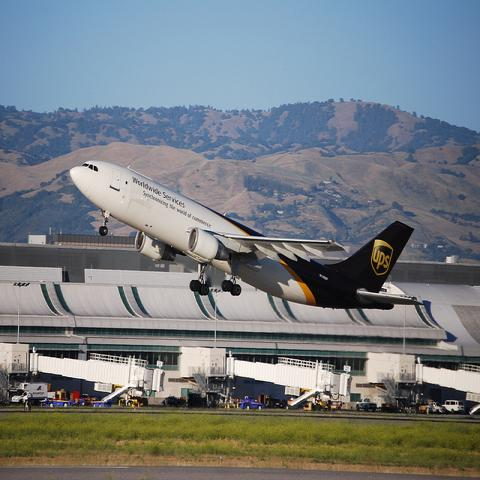car: (239, 397, 264, 411), (356, 396, 377, 412), (442, 399, 464, 414), (426, 401, 447, 413)
truck: (11, 383, 70, 408), (442, 400, 464, 414)
